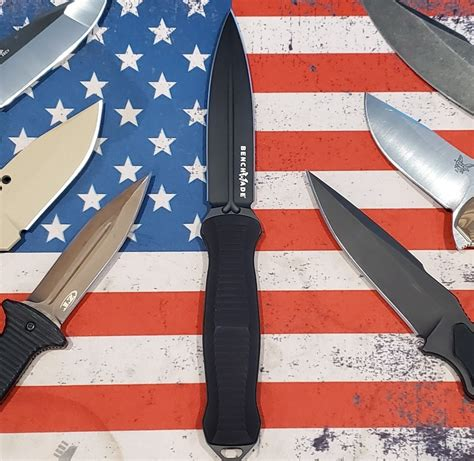knife: (305, 169, 474, 401), (0, 175, 151, 411), (205, 9, 264, 458), (364, 93, 474, 246), (0, 100, 103, 252), (364, 1, 474, 116), (0, 0, 111, 106)
